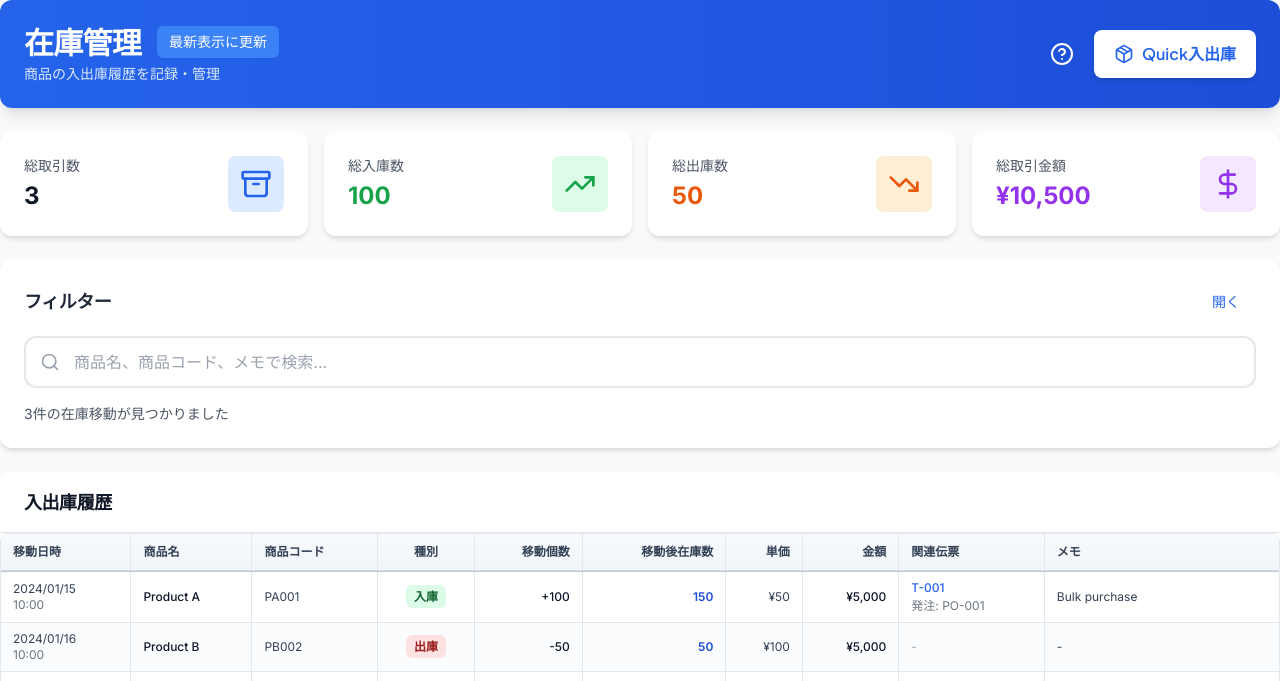
Test: Inventory › Quick Movement Form › should close form when キャンセル button is clicked
Click the button "Quick入出庫" at (1175, 54), box [1094,30,1256,78]
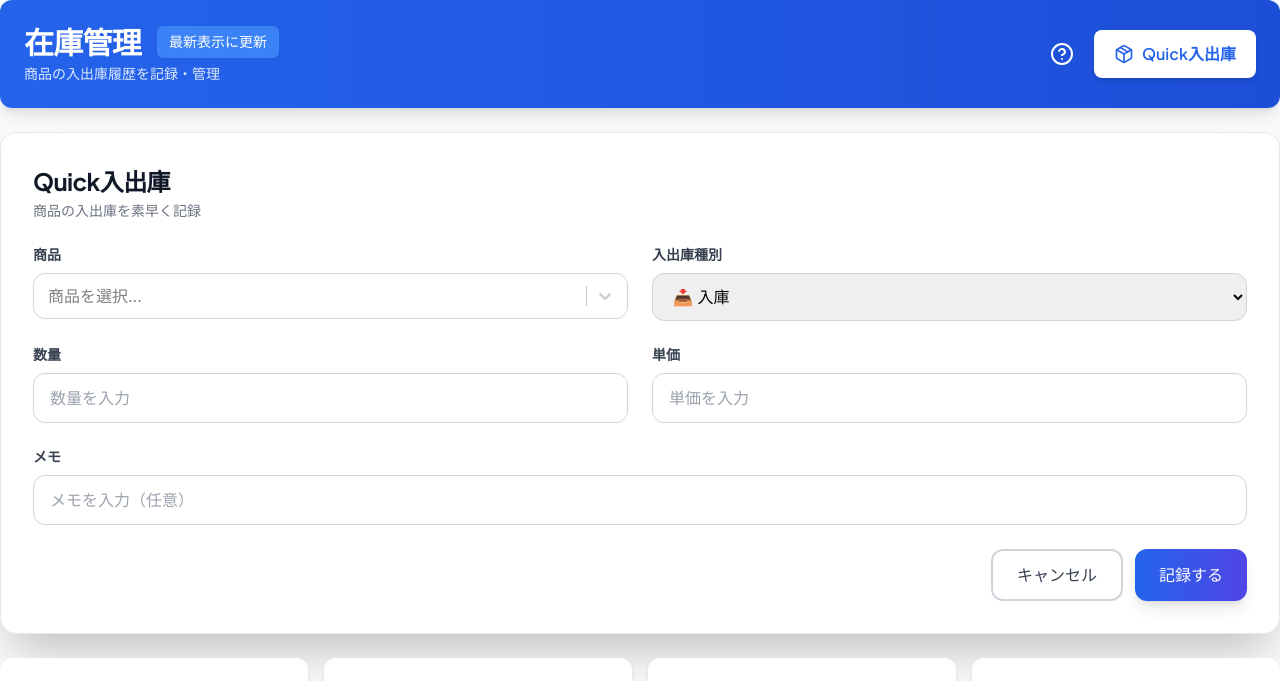
Expected: the text "商品の入出庫を素早く記録" is shown, [33,202,201,219]
Click the button "キャンセル" at (1057, 575), box [991,549,1123,601]
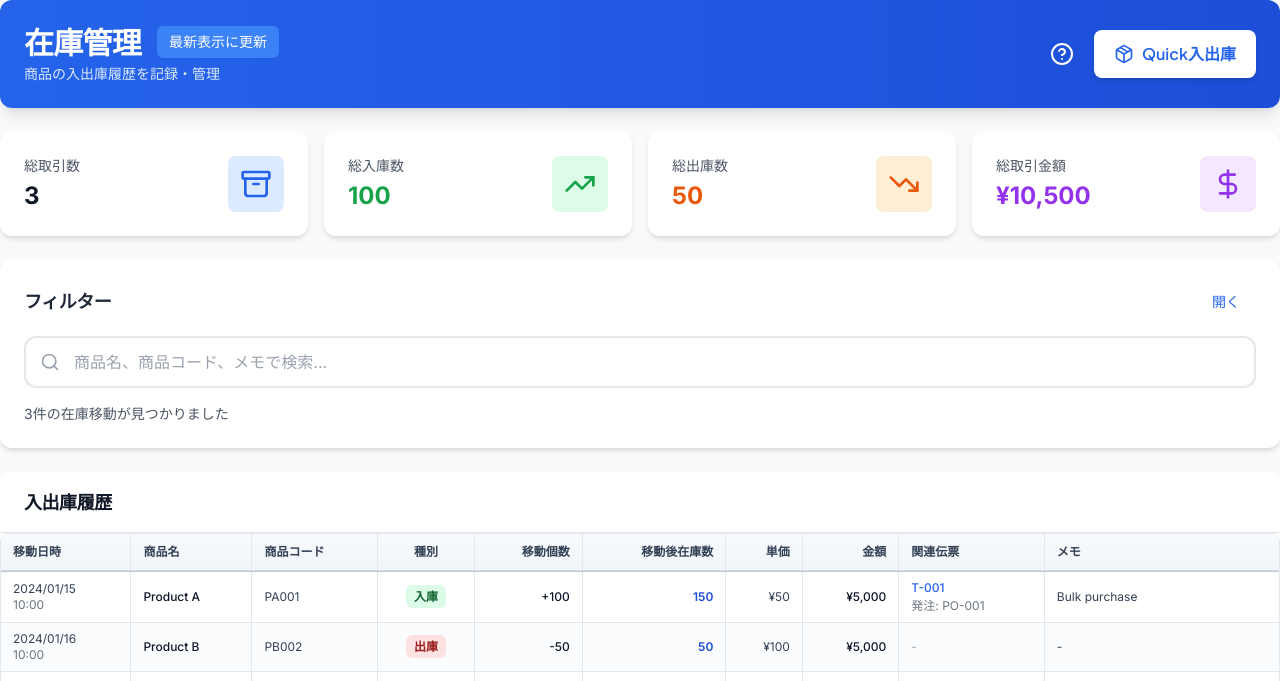
Expected: the text "商品の入出庫を素早く記録" is gone
